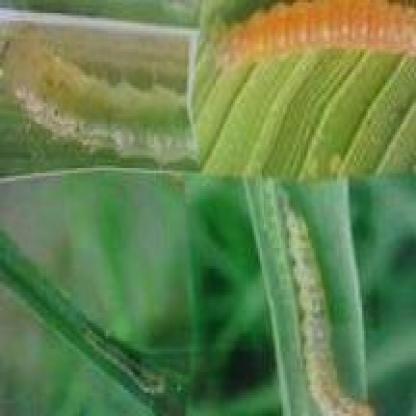leaf-folder: (264, 177, 394, 416), (6, 26, 192, 164), (211, 4, 416, 80), (82, 306, 174, 397)
